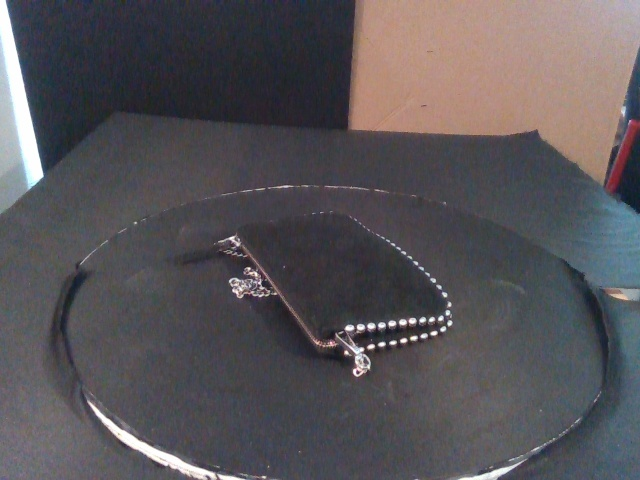bag: (235, 210, 454, 352)
